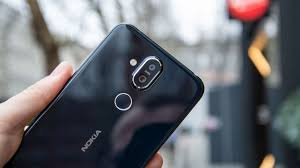nokia: (1, 21, 205, 165)
